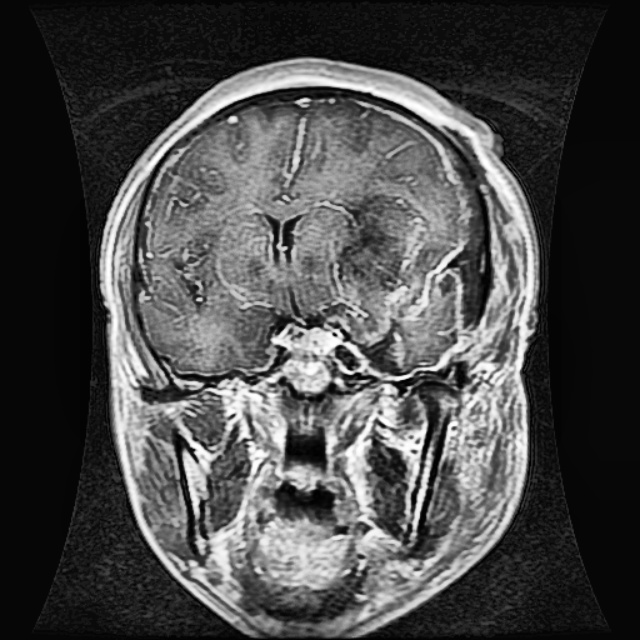Meningioma: (332, 193, 480, 367)
